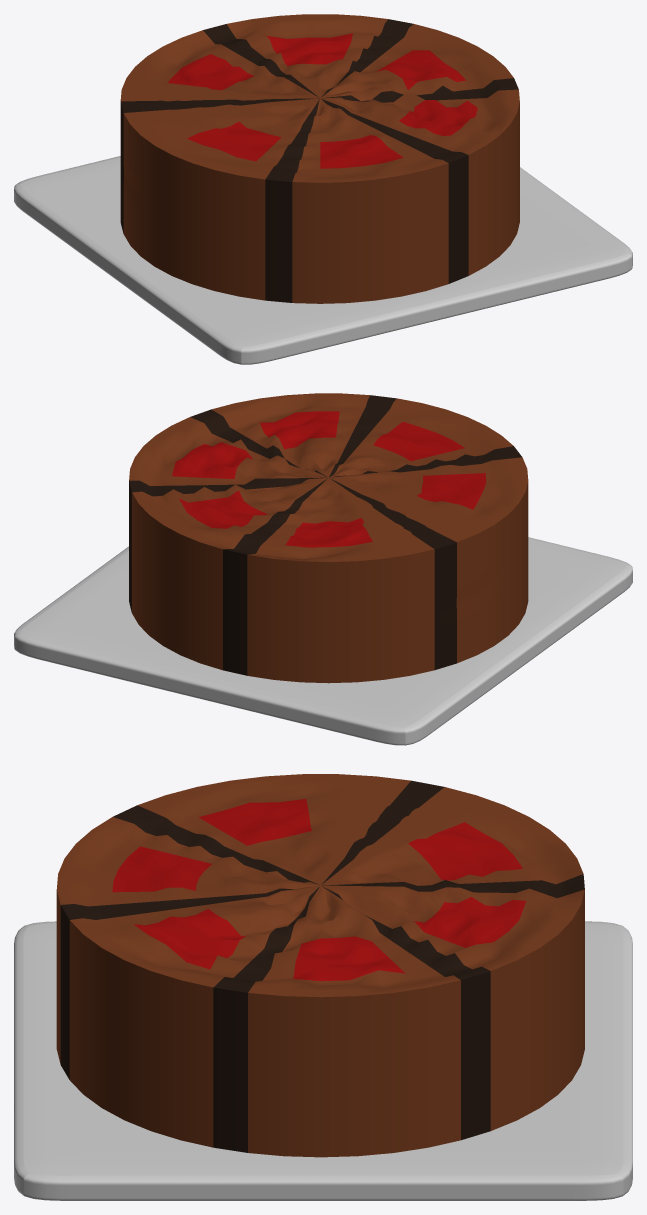
The model's file is Kuchen.obj.
The picture shows the model from 3 angles, top to bottom: view 1: azimuth 30°, elevation 25°; view 2: azimuth 150°, elevation 25°; view 3: azimuth 270°, elevation 25°; orthographic projection. The views are drawn at different scales.
Visible parts, largest first — view 1: Cylinder003, Box001; view 2: Cylinder003, Box001; view 3: Cylinder003, Box001.
Part boxes in pixels (x1,y1,x2,y2): Cylinder003: (120,14,519,303); Box001: (14,156,632,364); Cylinder003: (129,393,528,683); Box001: (14,537,632,745); Cylinder003: (56,774,584,1157); Box001: (14,921,632,1200).
Bounding box in the file's own units: 40 × 13.23 × 40.
